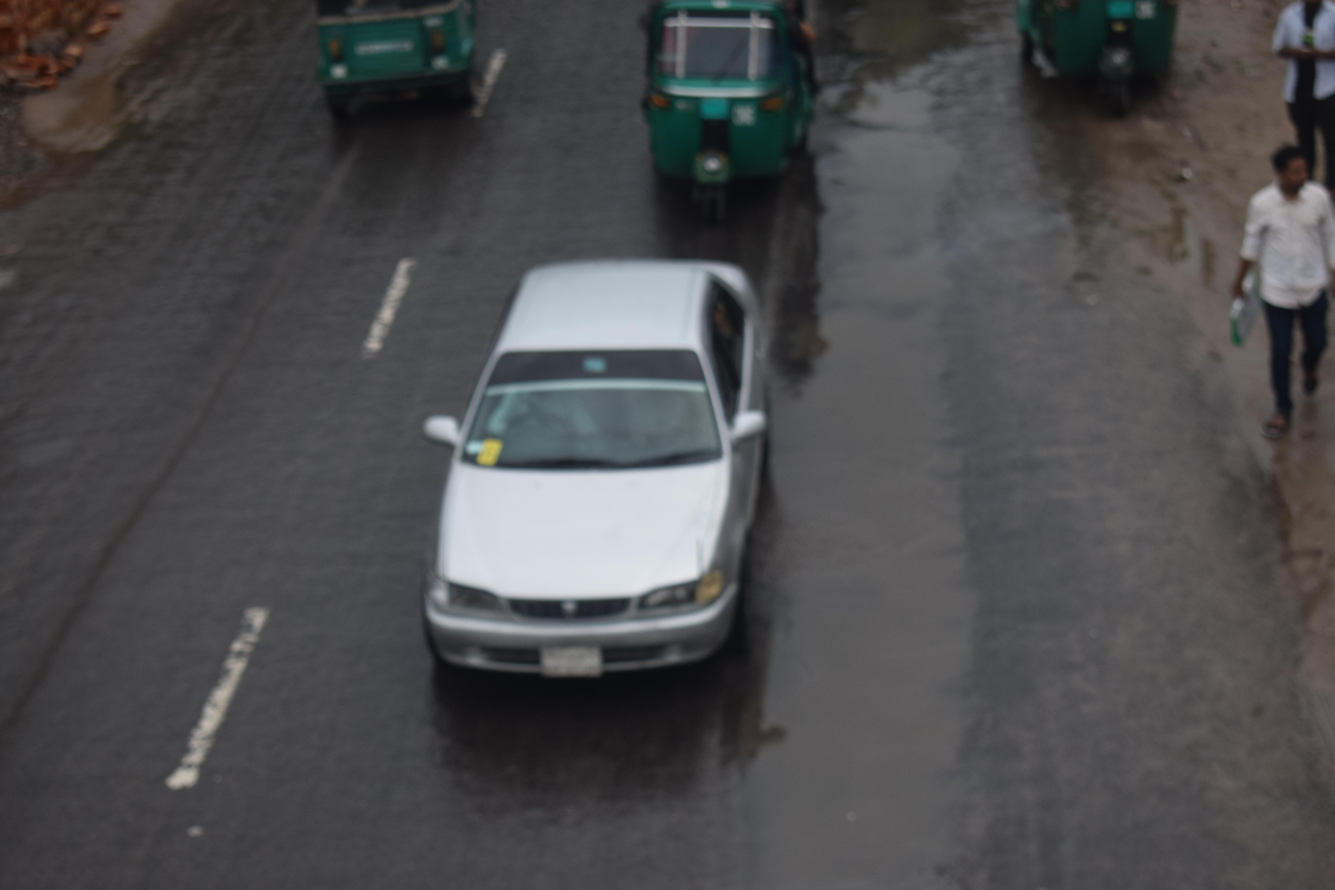Car: (349, 218, 841, 748)
